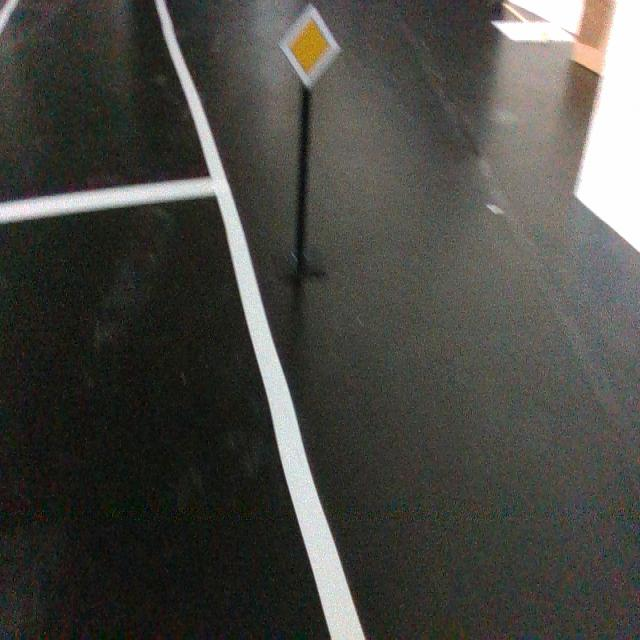priority-sign: (278, 1, 342, 90)
